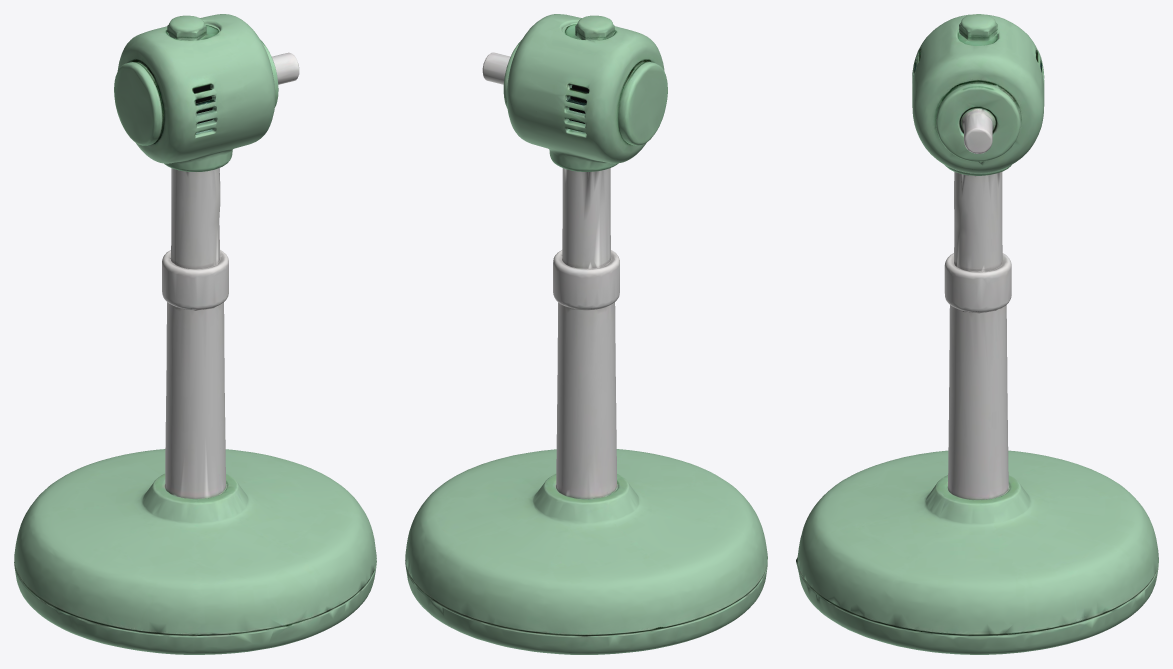
The model's file is floorfan.glb.
3 renders of one model, left to right at view 1: azimuth 30°, elevation 25°; view 2: azimuth 150°, elevation 25°; view 3: azimuth 270°, elevation 25°, orthographic.
Parts seen in each view (by area): view 1: tripo_node_3ac8b29d-3b19-4864-8e66-c8a9af7ab8d7; view 2: tripo_node_3ac8b29d-3b19-4864-8e66-c8a9af7ab8d7; view 3: tripo_node_3ac8b29d-3b19-4864-8e66-c8a9af7ab8d7.
Part boxes in pixels (x1,y1,x2,y2): tripo_node_3ac8b29d-3b19-4864-8e66-c8a9af7ab8d7: (14,14,376,654); tripo_node_3ac8b29d-3b19-4864-8e66-c8a9af7ab8d7: (405,14,767,654); tripo_node_3ac8b29d-3b19-4864-8e66-c8a9af7ab8d7: (796,14,1158,654).
Size of the model in its own units: 0.5808 by 1 by 0.5846.
Materials: 1 (1 with a texture image).
